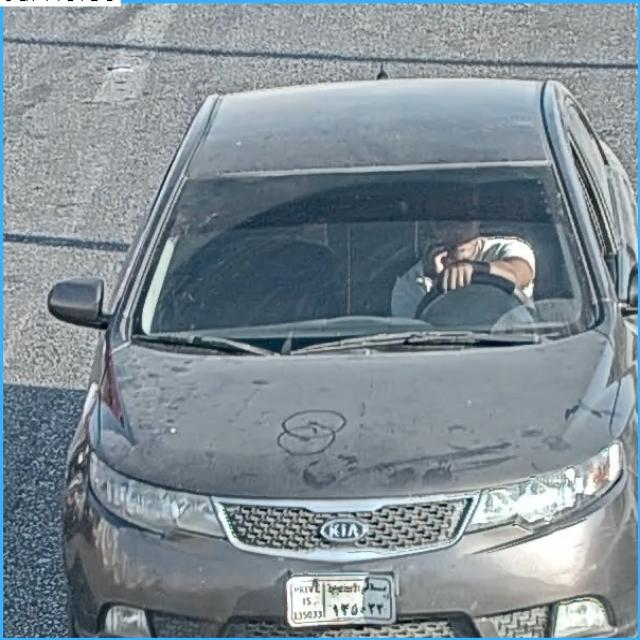windshield: (134, 168, 596, 335)
